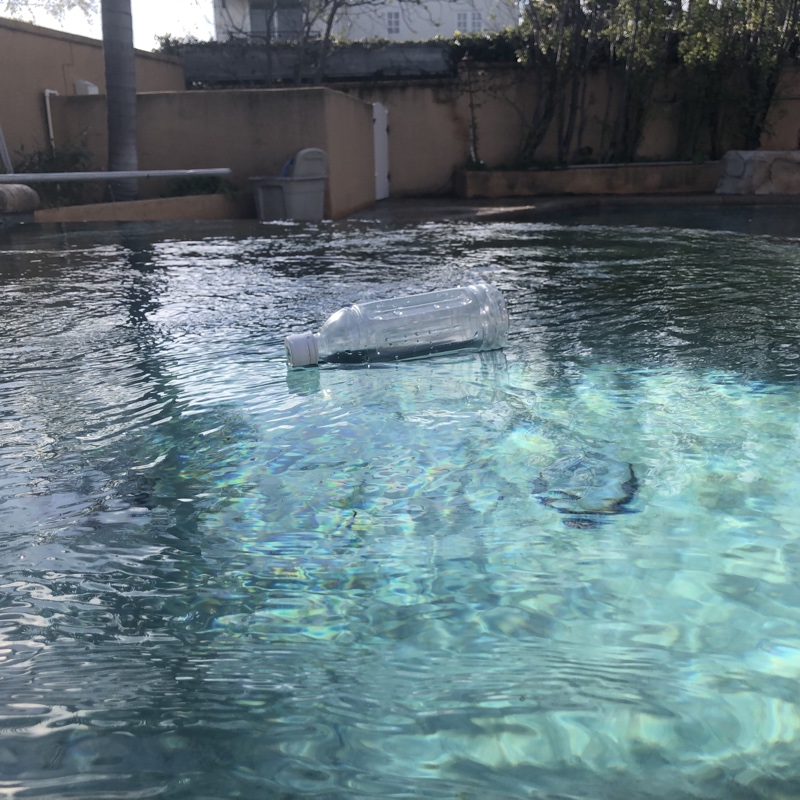Plastic Bottle: (280, 280, 514, 367)
